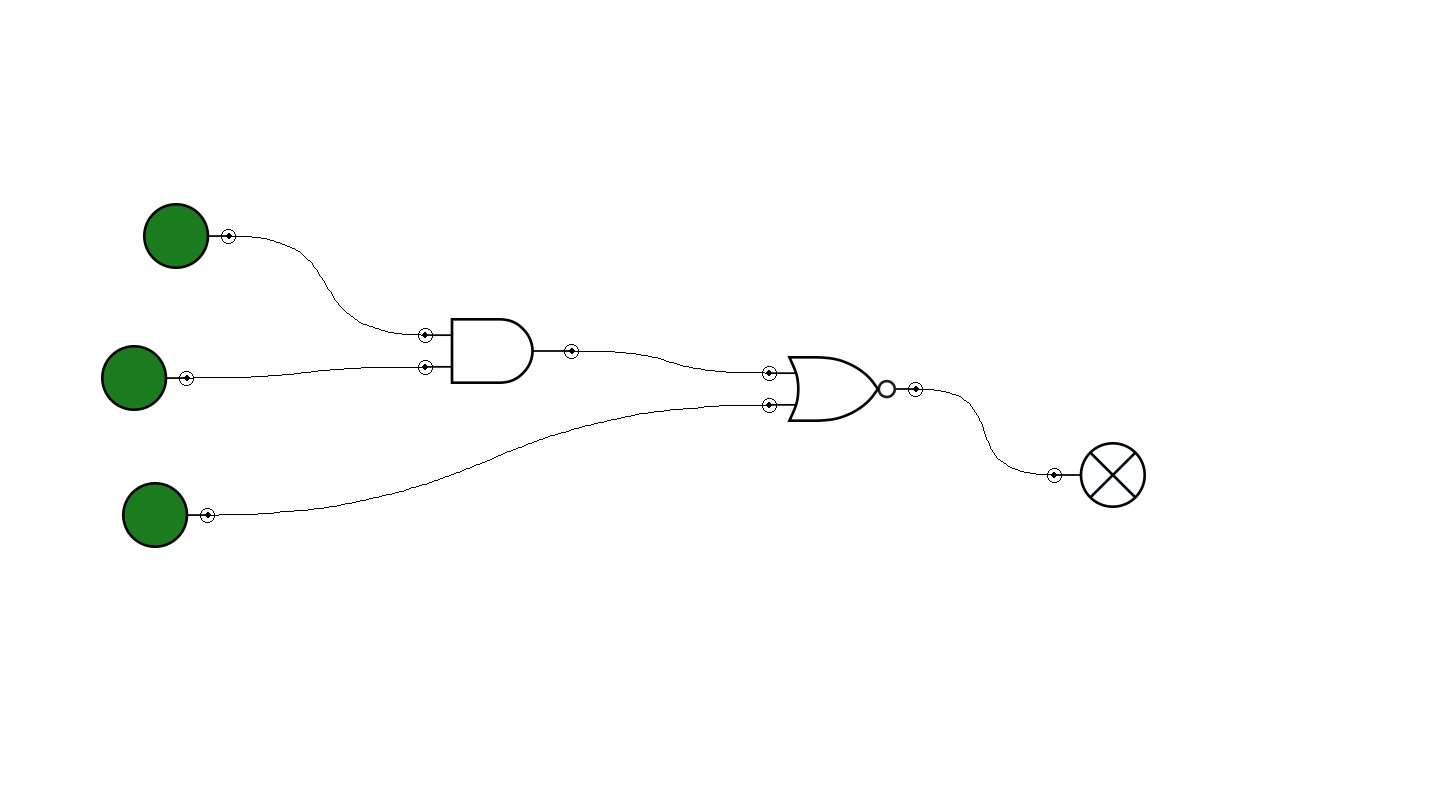and: (418, 318, 579, 384)
bulb: (1047, 442, 1146, 508)
nor: (762, 356, 923, 422)
switch_True: (122, 482, 215, 548), (143, 203, 236, 269), (101, 345, 194, 411)
